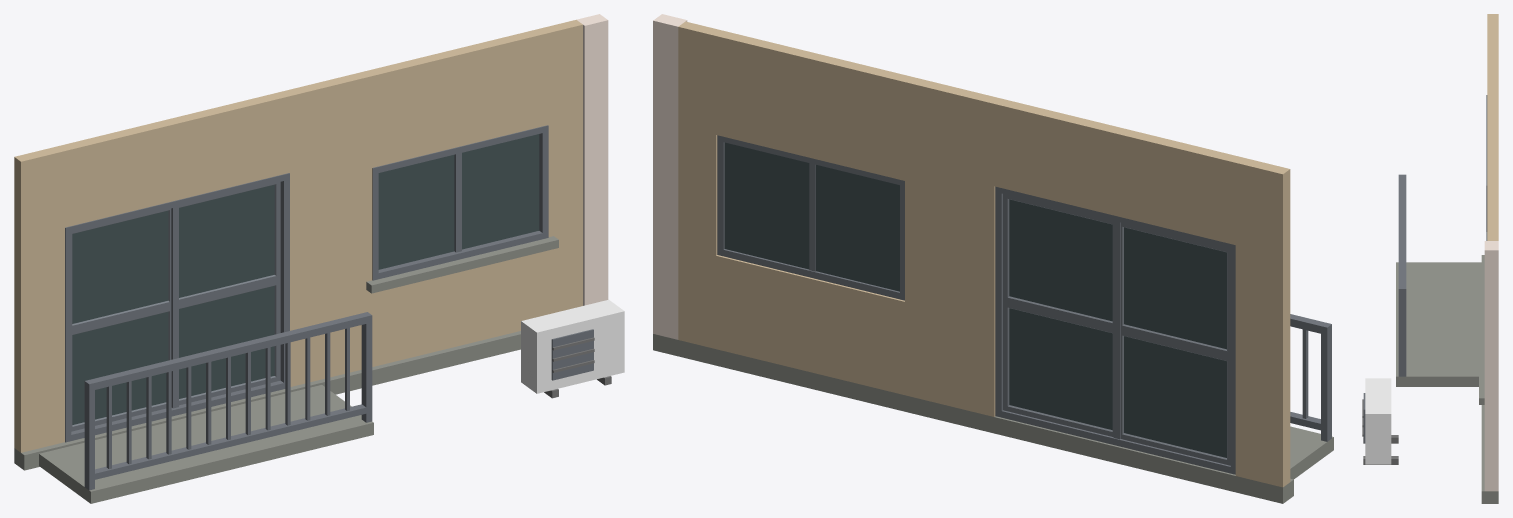
The model's file is mid-w1_close.fbx.
The picture shows the model from 3 angles, left to right: view 1: azimuth 30°, elevation 25°; view 2: azimuth 150°, elevation 25°; view 3: azimuth 270°, elevation 25°; orthographic projection. The views are drawn at different scales.
Parts seen in each view (by area): view 1: a2001_400_mid-w1.001; view 2: a2001_400_mid-w1.001; view 3: a2001_400_mid-w1.001.
Boxes of the visible parts, x1,y1,x2,y2 form: a2001_400_mid-w1.001: [14, 14, 624, 503]; a2001_400_mid-w1.001: [653, 14, 1333, 503]; a2001_400_mid-w1.001: [1362, 14, 1498, 503].
Bounding box in the file's own units: 6 × 3 × 1.46.
